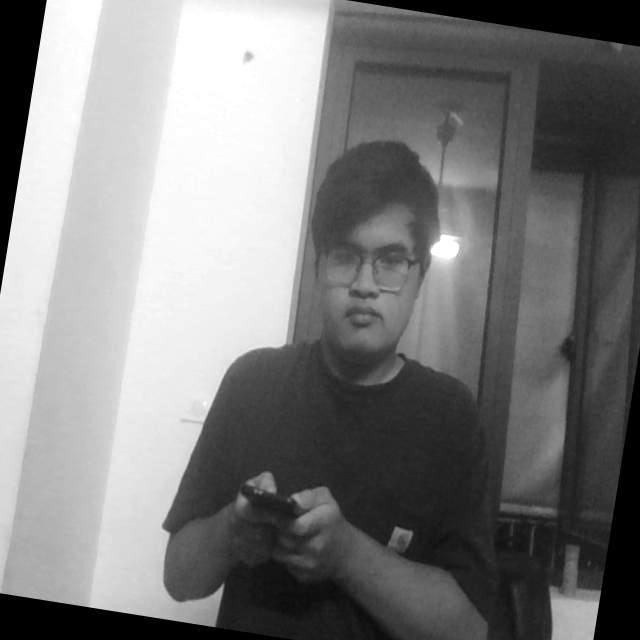phone: (226, 463, 333, 554)
